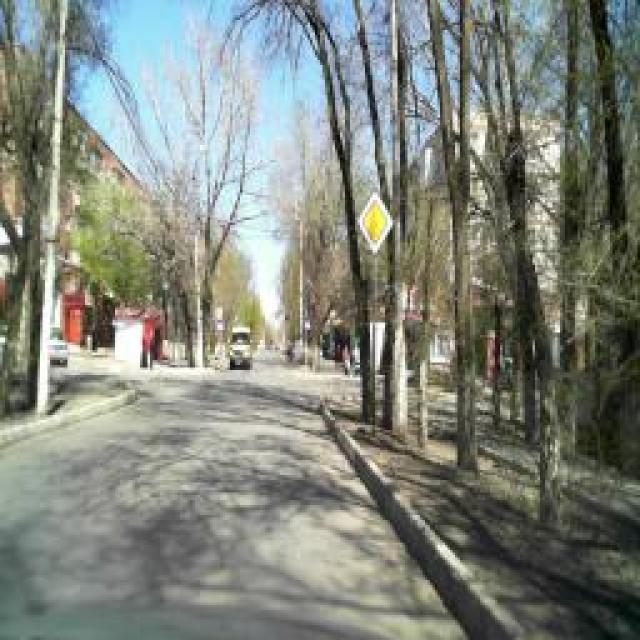sign: (357, 188, 395, 254)
